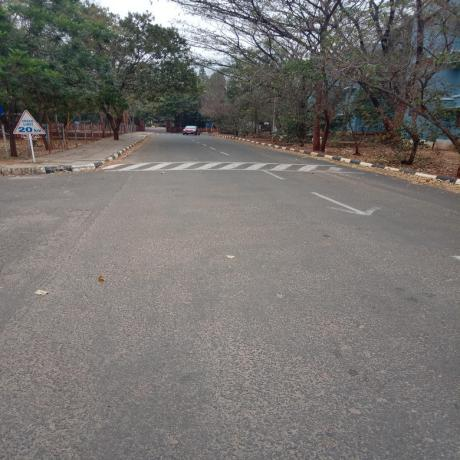Speed Bump: (103, 162, 359, 174)
